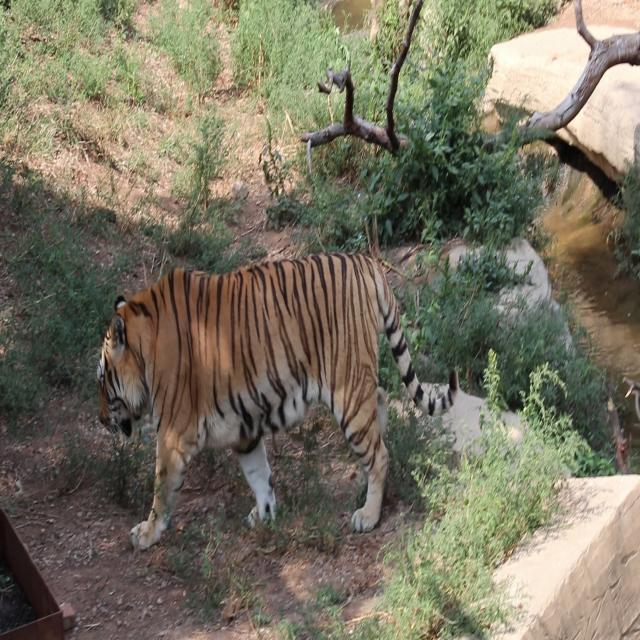Tiger: (91, 233, 457, 554)
